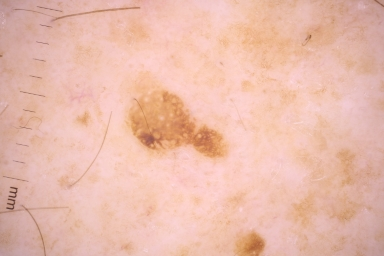seborrheic keratosis: (95, 69, 235, 177)
